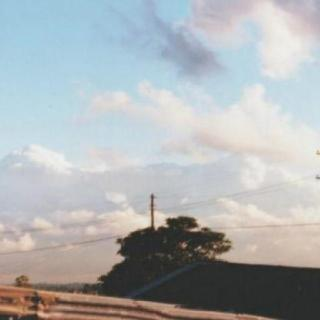Stratus: (0, 0, 320, 257)
